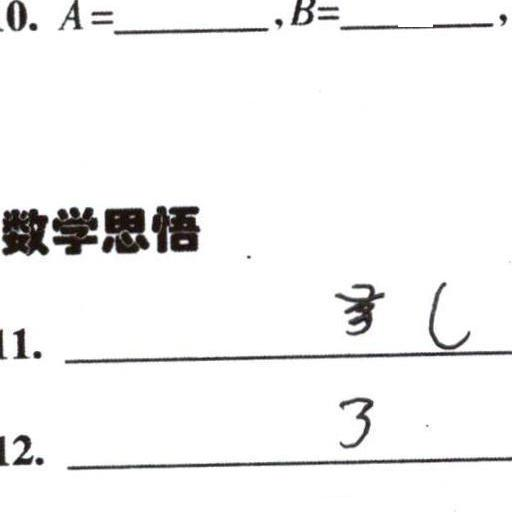ans: (422, 277, 473, 353), (335, 393, 375, 450)
